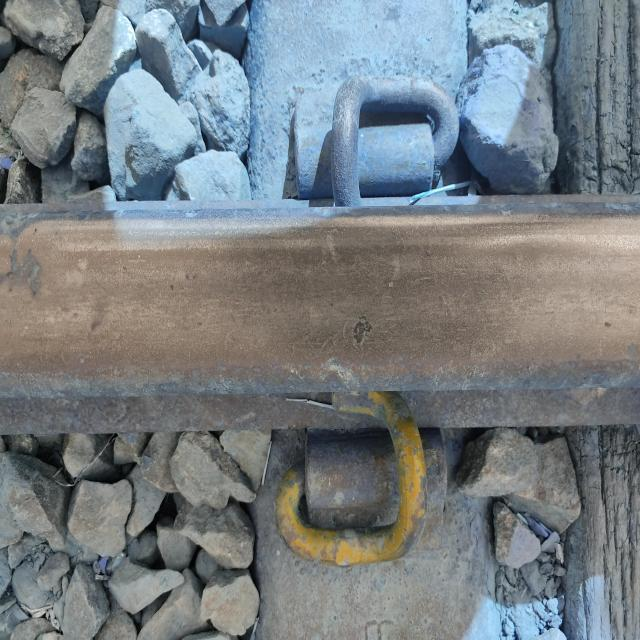Good Fasteners: (268, 372, 452, 591), (268, 33, 470, 224)
